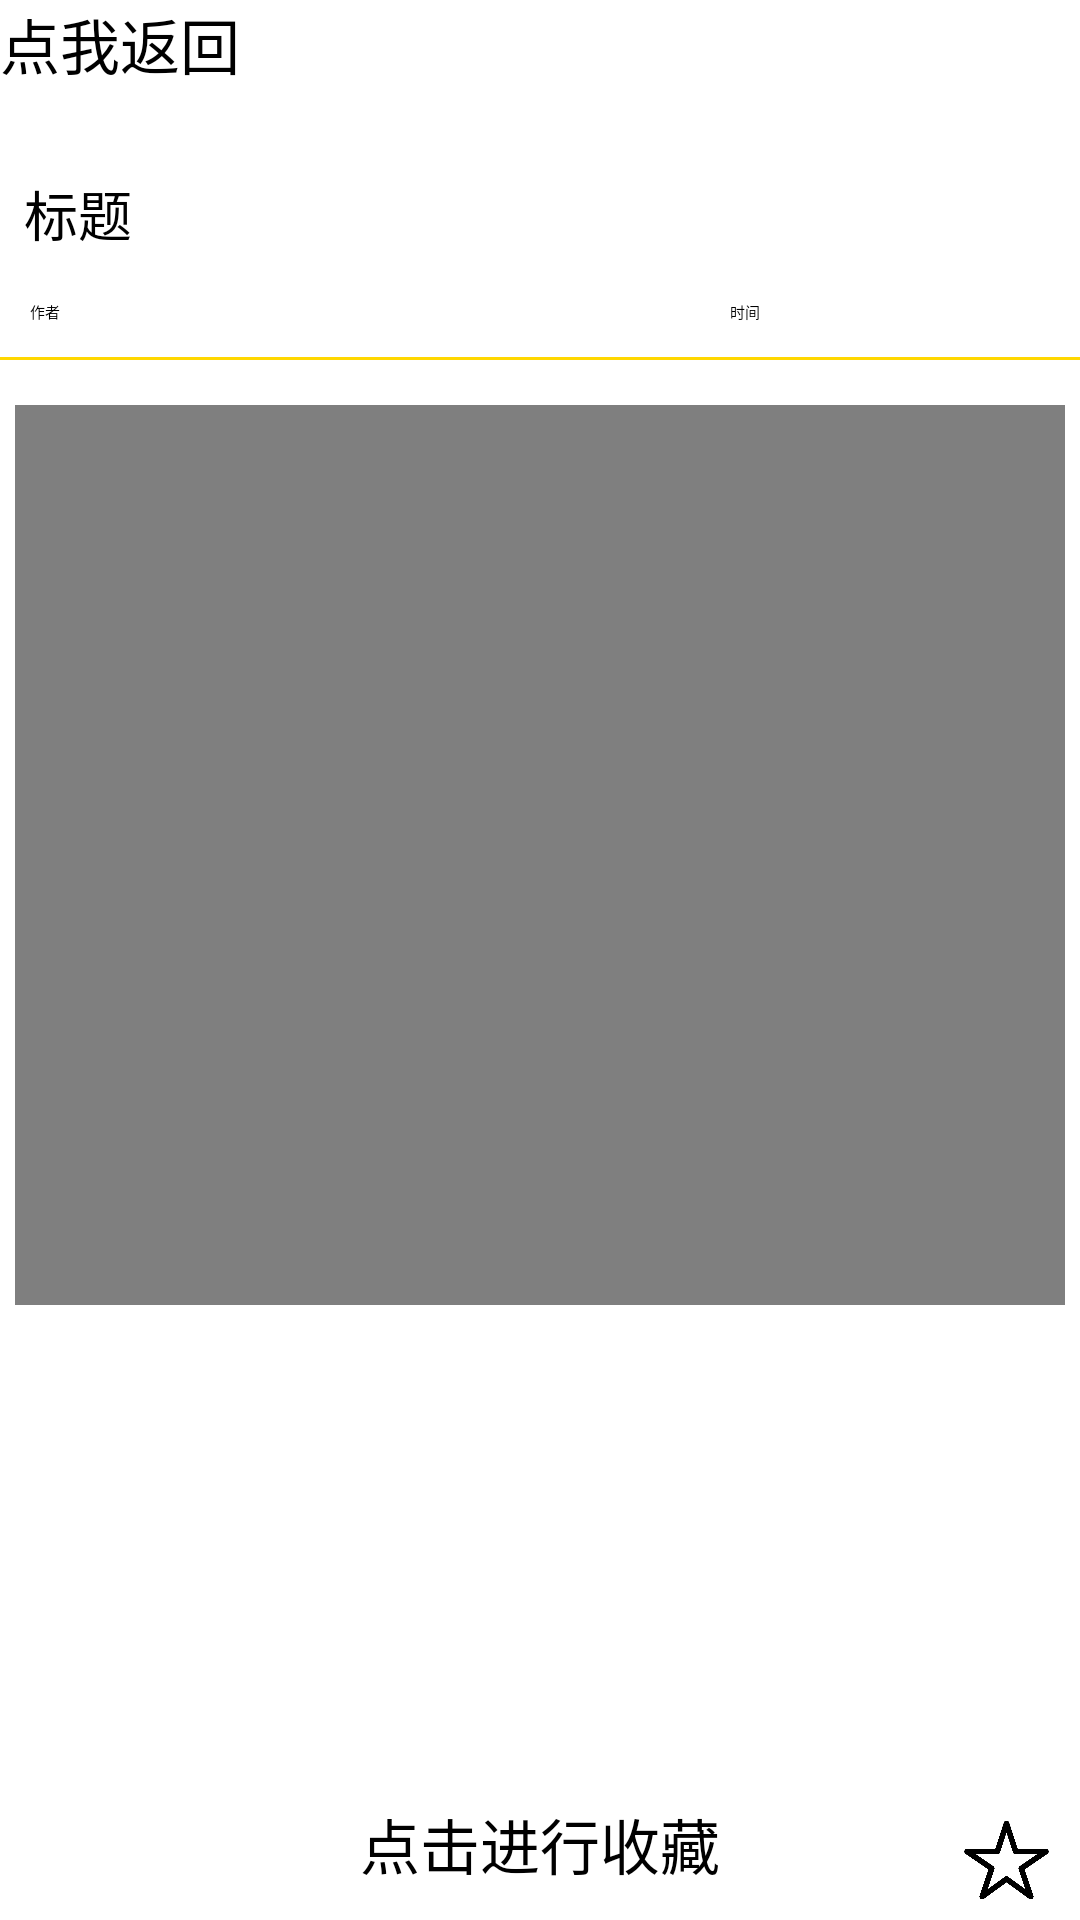

Screen size 1080x1920. Icon name, then its box in pixels as (x1,y1,x2,y2):
star: (964,1821,1049,1899)
